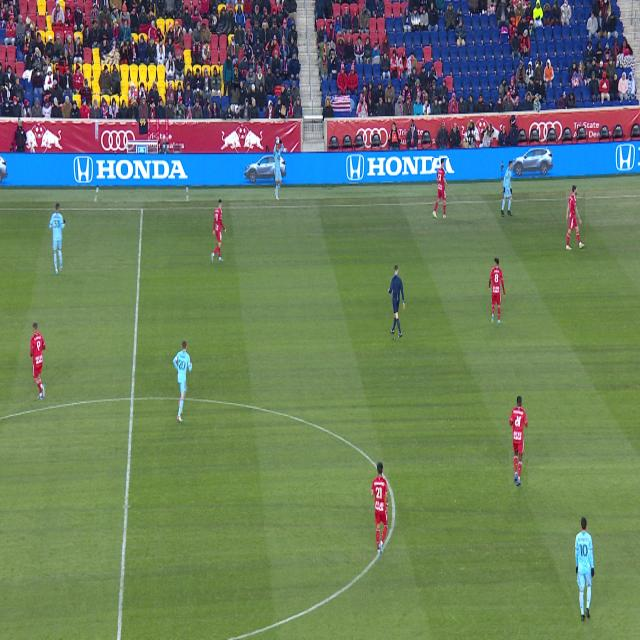player: (575, 517, 595, 621), (371, 462, 389, 557), (509, 397, 528, 485), (173, 341, 192, 422), (566, 185, 585, 251), (30, 322, 46, 400), (49, 203, 65, 274), (489, 258, 505, 325), (433, 158, 449, 219), (211, 199, 226, 263), (501, 161, 513, 216)
referee: (388, 265, 405, 338)
